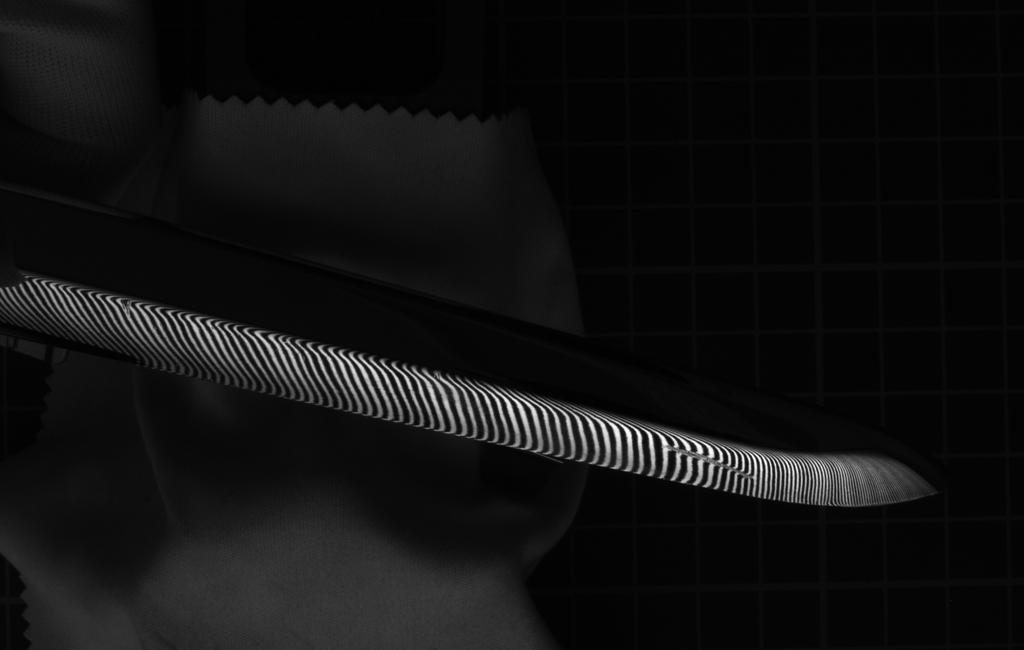Scratch: (654, 440, 769, 487)
